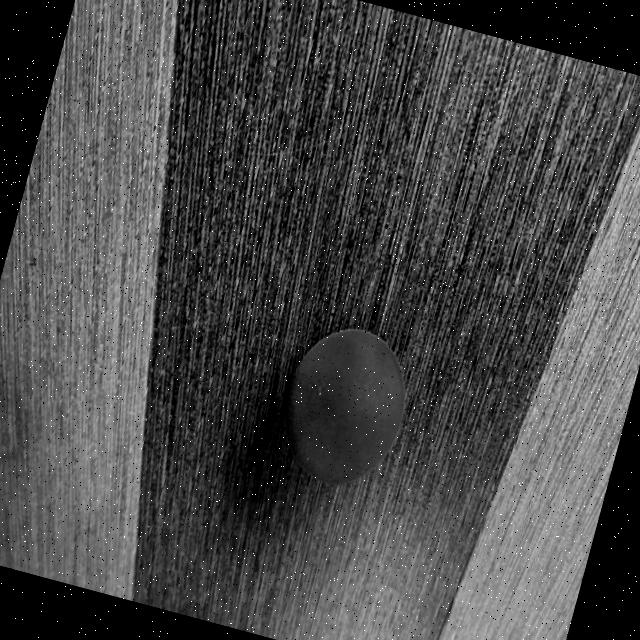ping-pong-ball: (265, 314, 424, 500)
